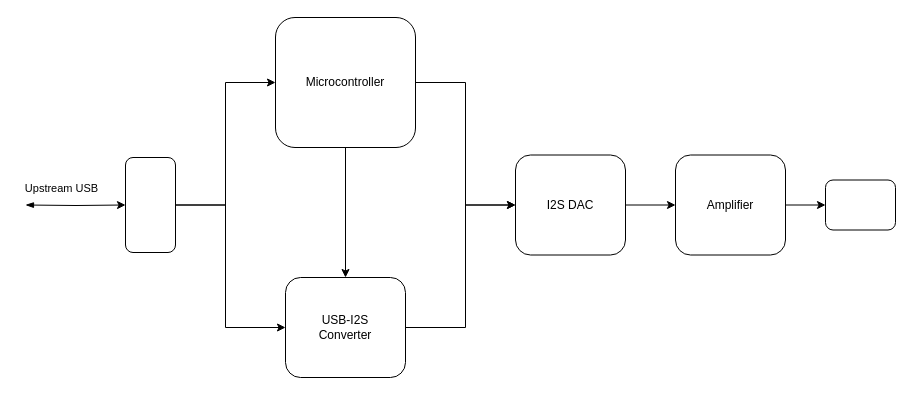
Image size: 913x395. Some labels were removed from this diagram. The centre of each missing label's shape, as x and y in pixels:
Output Connector: point (860, 204)
USB-C: point (150, 204)
